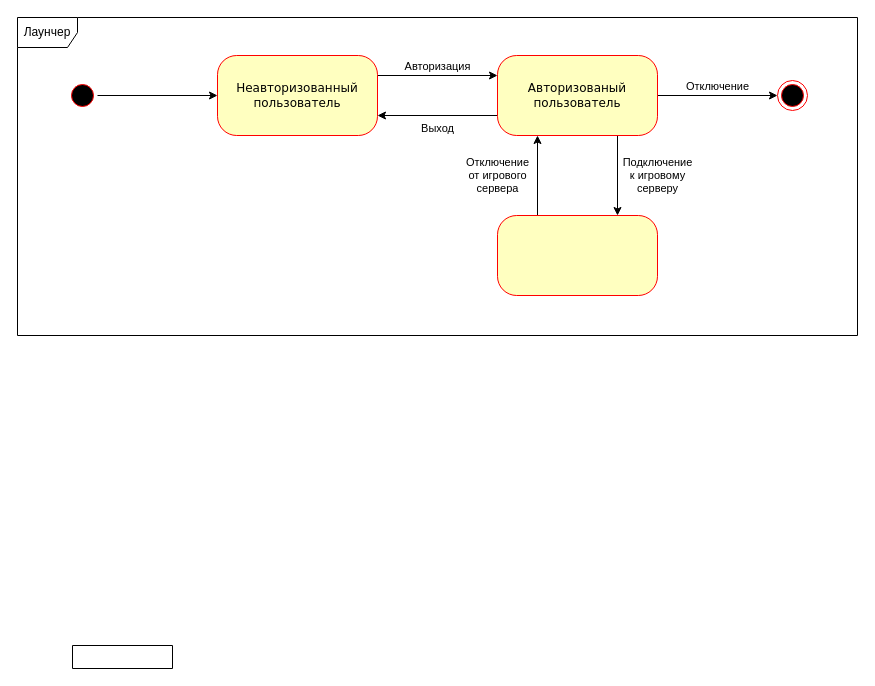
This 875x686 diagram has some shape labels left out. Each missing label, with the centre of its shape:
Container: (x=122, y=656)
Игра: (x=577, y=255)
